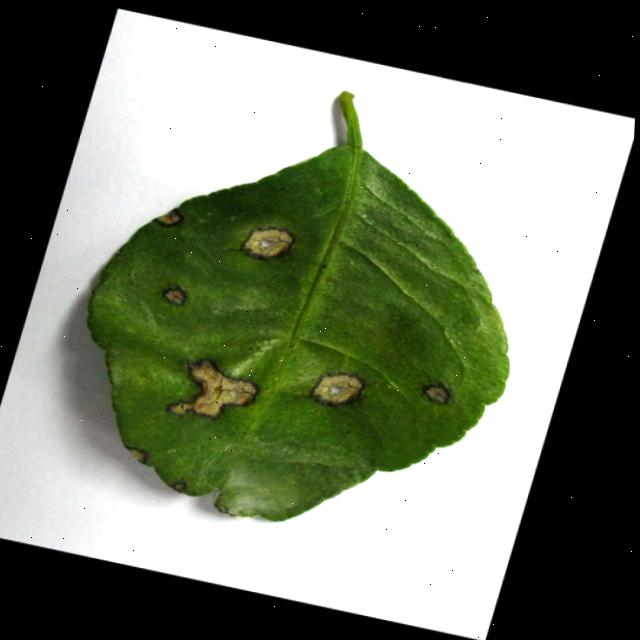antracnose: (88, 93, 508, 521), (176, 360, 256, 417), (309, 372, 364, 407), (242, 228, 292, 257), (423, 384, 450, 404), (162, 287, 186, 305), (124, 446, 147, 464), (155, 210, 182, 225)
